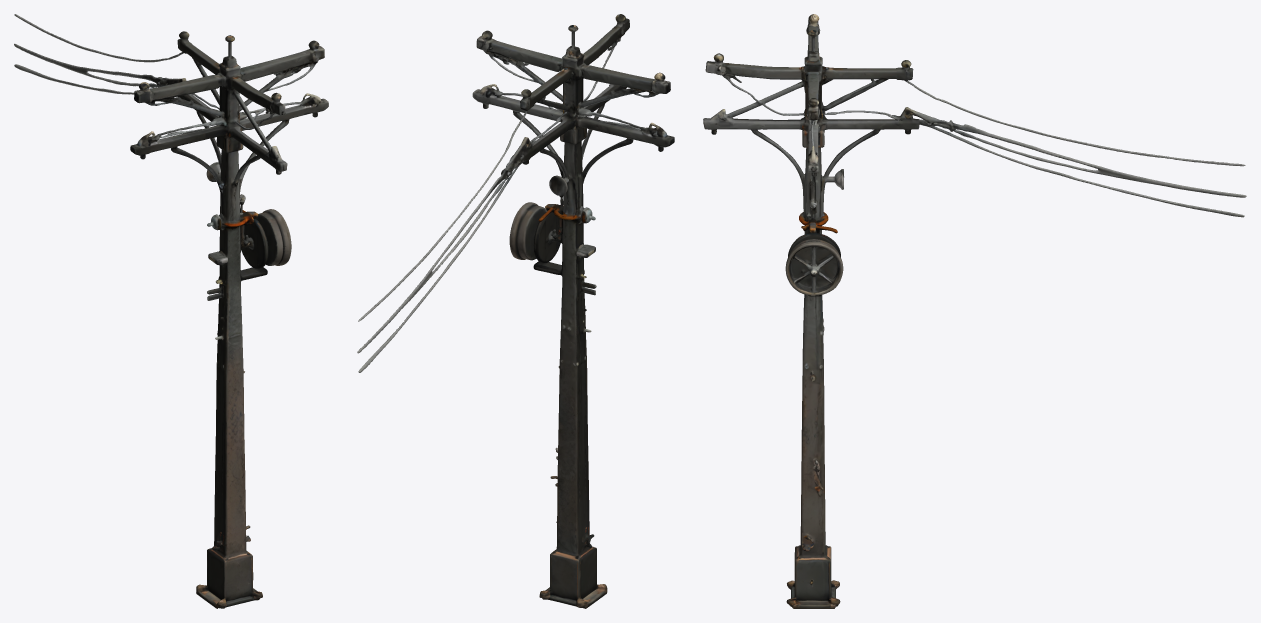
Rendered from prop-telegraph.glb.
3 views of the same model, side by side, from view 1: azimuth 30°, elevation 25°; view 2: azimuth 150°, elevation 25°; view 3: azimuth 270°, elevation 25° (orthographic).
Parts seen in each view (by area): view 1: tripo_node_8e9e62ba-7fad-46ac-a9dc-9a43bac81436; view 2: tripo_node_8e9e62ba-7fad-46ac-a9dc-9a43bac81436; view 3: tripo_node_8e9e62ba-7fad-46ac-a9dc-9a43bac81436.
Part boxes in pixels (left/top/right/bottom): tripo_node_8e9e62ba-7fad-46ac-a9dc-9a43bac81436: left=14, top=14, right=328, bottom=608; tripo_node_8e9e62ba-7fad-46ac-a9dc-9a43bac81436: left=357, top=14, right=674, bottom=608; tripo_node_8e9e62ba-7fad-46ac-a9dc-9a43bac81436: left=703, top=14, right=1246, bottom=608.
Bounding box in the file's own units: 2.54 × 7 × 6.08.
1 material, 1 textured.
